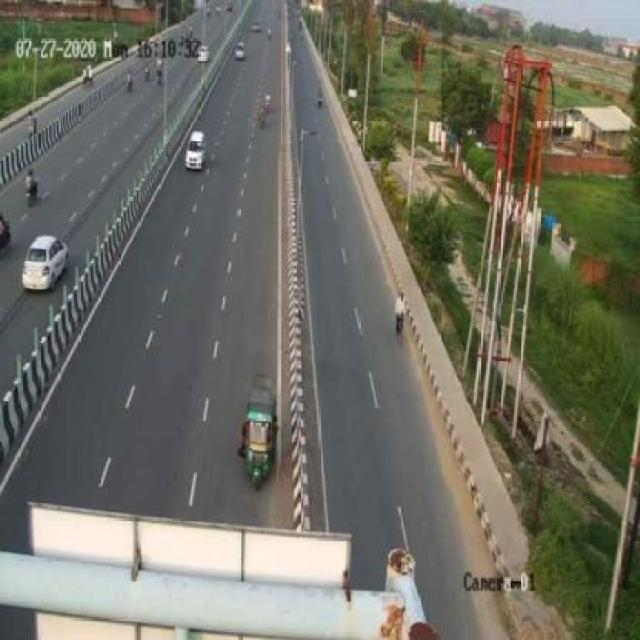car: (23, 234, 69, 292), (185, 132, 206, 172)
